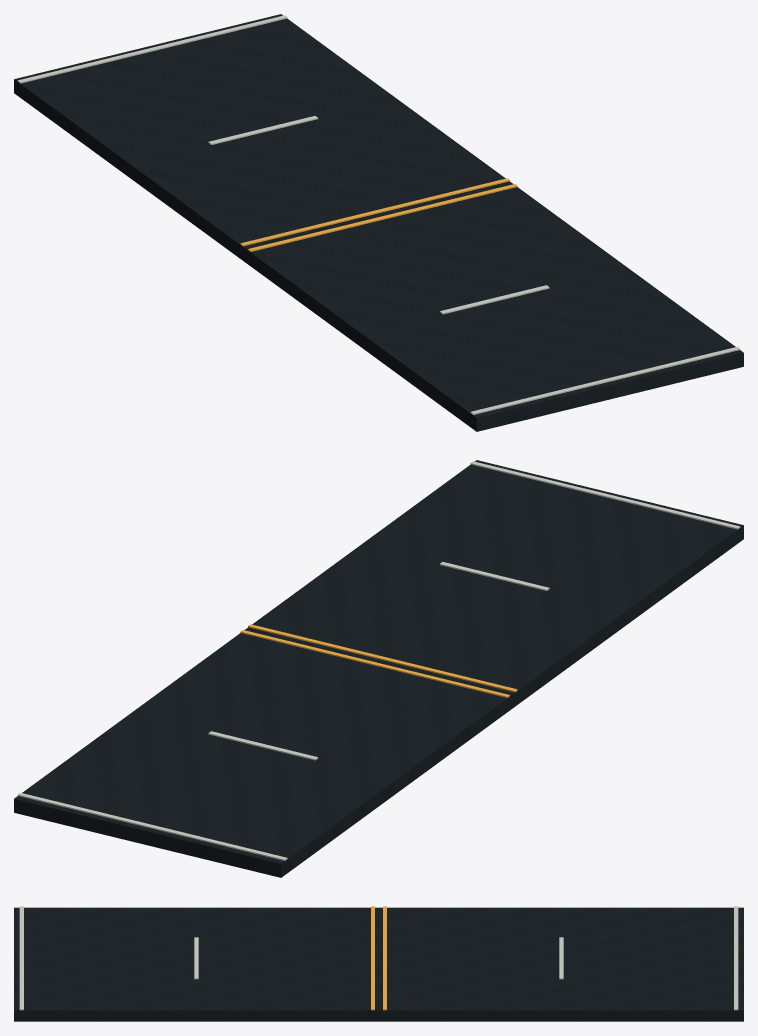
Rendered from Road_4Lane_4m.glb.
3 renders of one model, top to bottom at view 1: azimuth 30°, elevation 25°; view 2: azimuth 150°, elevation 25°; view 3: azimuth 270°, elevation 25°, orthographic. The views are drawn at different scales.
Visible parts, largest first — view 1: Road_4Lane_4m_Lane_01, Road_4Lane_4m_Lane_03, Road_4Lane_4m_Lane_02, Road_4Lane_4m_Lane_04, Road_4Lane_4m_LaneMarkings, Road_4Lane_4m_EdgeMarkings; view 2: Road_4Lane_4m_Lane_04, Road_4Lane_4m_Lane_02, Road_4Lane_4m_Lane_03, Road_4Lane_4m_Lane_01, Road_4Lane_4m_LaneMarkings, Road_4Lane_4m_EdgeMarkings; view 3: Road_4Lane_4m_Lane_01, Road_4Lane_4m_Lane_03, Road_4Lane_4m_Lane_02, Road_4Lane_4m_Lane_04, Road_4Lane_4m_LaneMarkings, Road_4Lane_4m_EdgeMarkings.
Boxes of the visible parts, <box> form: Road_4Lane_4m_Lane_01: <box>361,268,743,431</box>; Road_4Lane_4m_Lane_03: <box>129,98,512,261</box>; Road_4Lane_4m_Lane_02: <box>245,183,627,346</box>; Road_4Lane_4m_Lane_04: <box>14,14,396,177</box>; Road_4Lane_4m_LaneMarkings: <box>208,116,549,314</box>; Road_4Lane_4m_EdgeMarkings: <box>17,15,740,414</box>; Road_4Lane_4m_Lane_04: <box>14,714,396,877</box>; Road_4Lane_4m_Lane_02: <box>245,544,628,707</box>; Road_4Lane_4m_Lane_03: <box>130,629,512,792</box>; Road_4Lane_4m_Lane_01: <box>361,460,743,623</box>; Road_4Lane_4m_LaneMarkings: <box>208,562,549,760</box>; Road_4Lane_4m_EdgeMarkings: <box>17,461,740,860</box>; Road_4Lane_4m_Lane_01: <box>14,907,196,1021</box>; Road_4Lane_4m_Lane_03: <box>379,907,561,1021</box>; Road_4Lane_4m_Lane_02: <box>196,907,378,1021</box>; Road_4Lane_4m_Lane_04: <box>561,907,743,1021</box>; Road_4Lane_4m_LaneMarkings: <box>194,906,563,1010</box>; Road_4Lane_4m_EdgeMarkings: <box>19,906,738,1010</box>.
Size of the model in its own units: 4 by 0.221 by 12.
3 materials, 1 textured.
